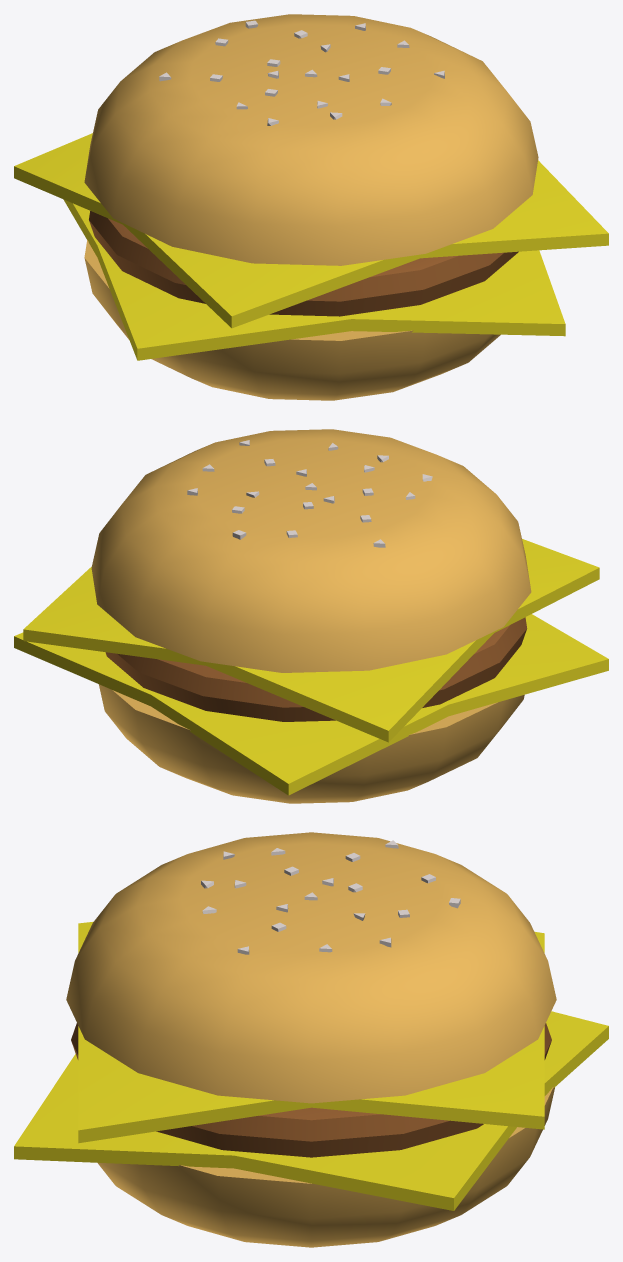
Rendered from BURGER.fbx.
3 renders of one model, top to bottom at view 1: azimuth 30°, elevation 25°; view 2: azimuth 150°, elevation 25°; view 3: azimuth 270°, elevation 25°, orthographic. The views are drawn at different scales.
Parts seen in each view (by area): view 1: Cylinder.004; view 2: Cylinder.004; view 3: Cylinder.004.
Boxes of the visible parts, <box> form: Cylinder.004: <box>14,14,608,400</box>; Cylinder.004: <box>14,429,608,803</box>; Cylinder.004: <box>14,832,608,1247</box>.
Bounding box in the file's own units: 243 × 129 × 243.
